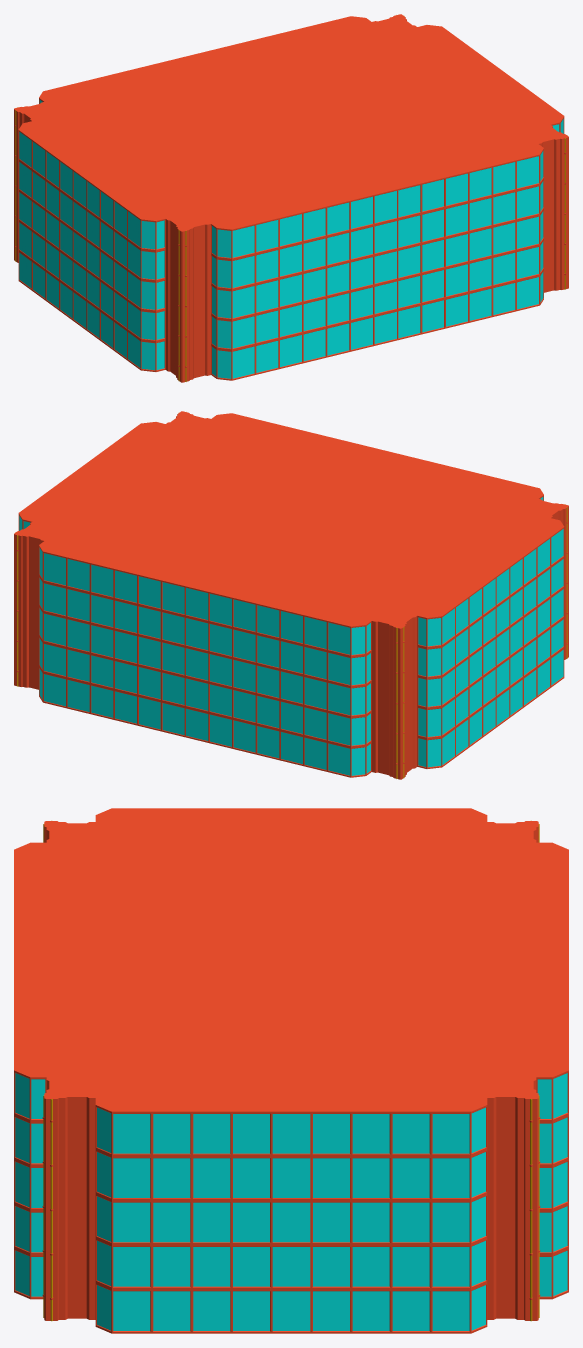
Rendered from SM_Skyscraper_A_Floor_City.fbx.
3 renders of one model, top to bottom at view 1: azimuth 30°, elevation 25°; view 2: azimuth 150°, elevation 25°; view 3: azimuth 270°, elevation 25°, orthographic. The views are drawn at different scales.
Parts seen in each view (by area): view 1: SM_Skyscraper_A_Floor_City; view 2: SM_Skyscraper_A_Floor_City; view 3: SM_Skyscraper_A_Floor_City.
Part boxes in pixels (x1,y1,x2,y2): SM_Skyscraper_A_Floor_City: (14, 14, 568, 382); SM_Skyscraper_A_Floor_City: (14, 411, 568, 779); SM_Skyscraper_A_Floor_City: (14, 808, 568, 1333).
Size of the model in its own units: 44 by 15 by 34.
